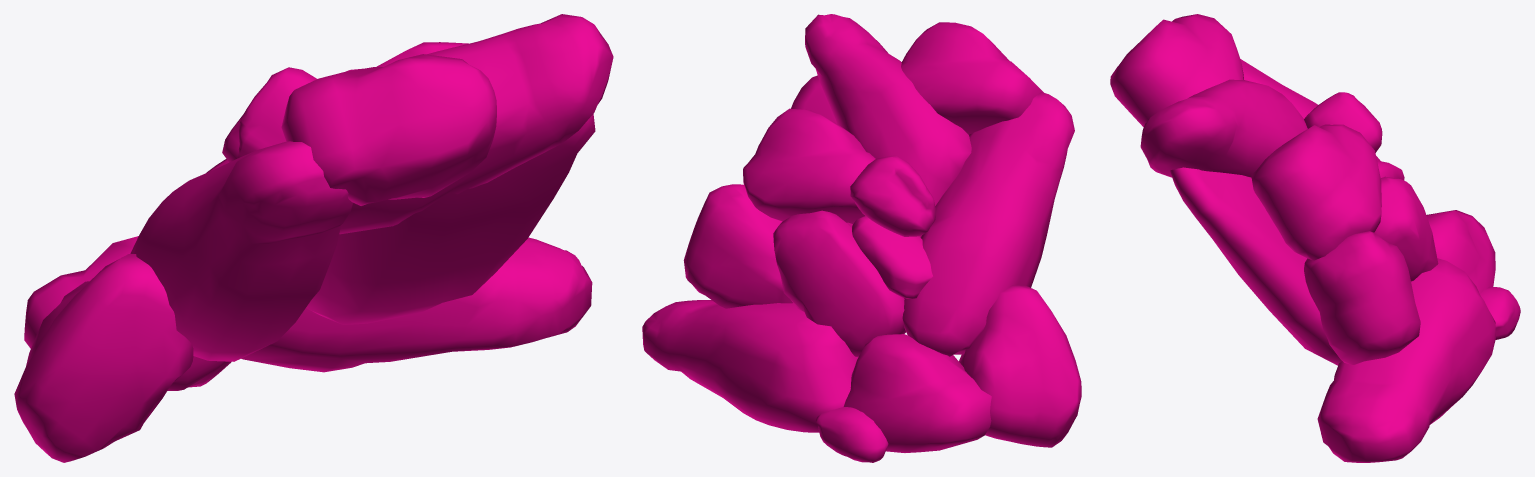
File: Rock_Small_Pile_01_Lod0.fbx
3 views of the same model, side by side, from view 1: azimuth 30°, elevation 25°; view 2: azimuth 150°, elevation 25°; view 3: azimuth 270°, elevation 25° (orthographic). The views are drawn at different scales.
Visible parts, largest first — view 1: Rock_Small_Pile_01_Lod0; view 2: Rock_Small_Pile_01_Lod0; view 3: Rock_Small_Pile_01_Lod0.
Boxes of the visible parts, x1,y1,x2,y2 form: Rock_Small_Pile_01_Lod0: (14,14,613,462); Rock_Small_Pile_01_Lod0: (642,14,1081,462); Rock_Small_Pile_01_Lod0: (1110,14,1520,462).
Size of the model in its own units: 3142 by 2275 by 2454.
